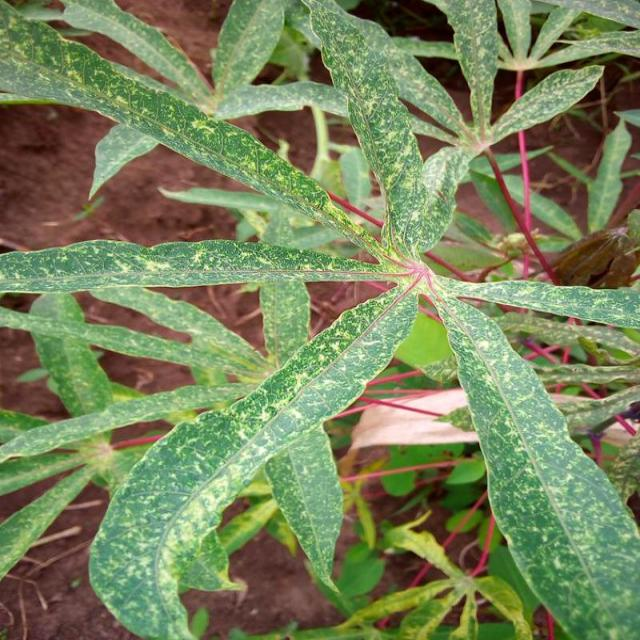cassava leaf: (1, 0, 638, 639), (87, 277, 420, 638), (429, 277, 638, 638)
